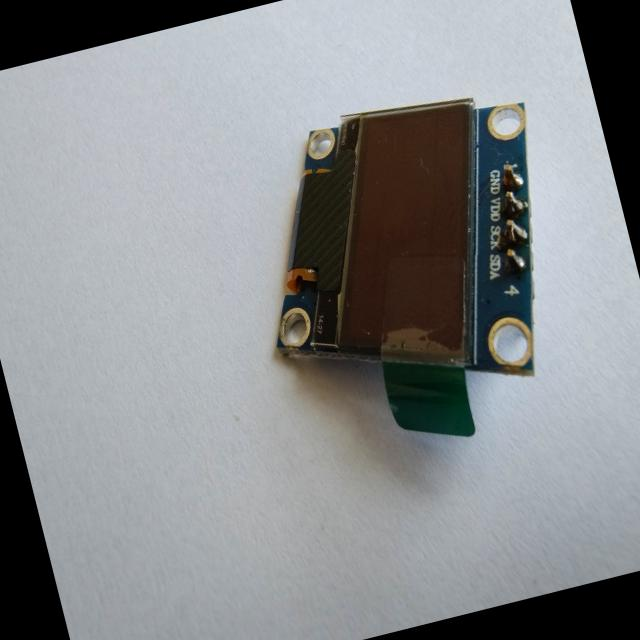oled: (217, 57, 586, 496)
